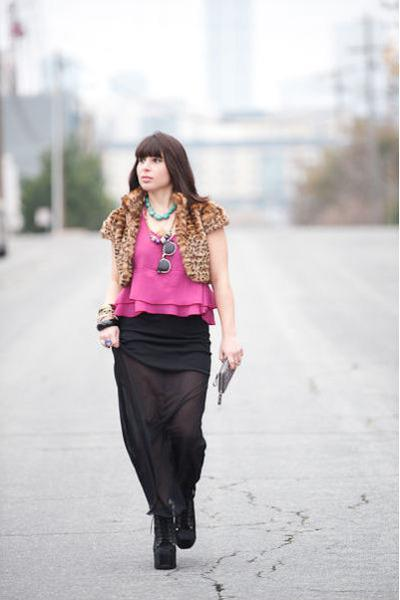short sleeve shirt: (101, 195, 229, 325)
skirt: (111, 311, 216, 378)
